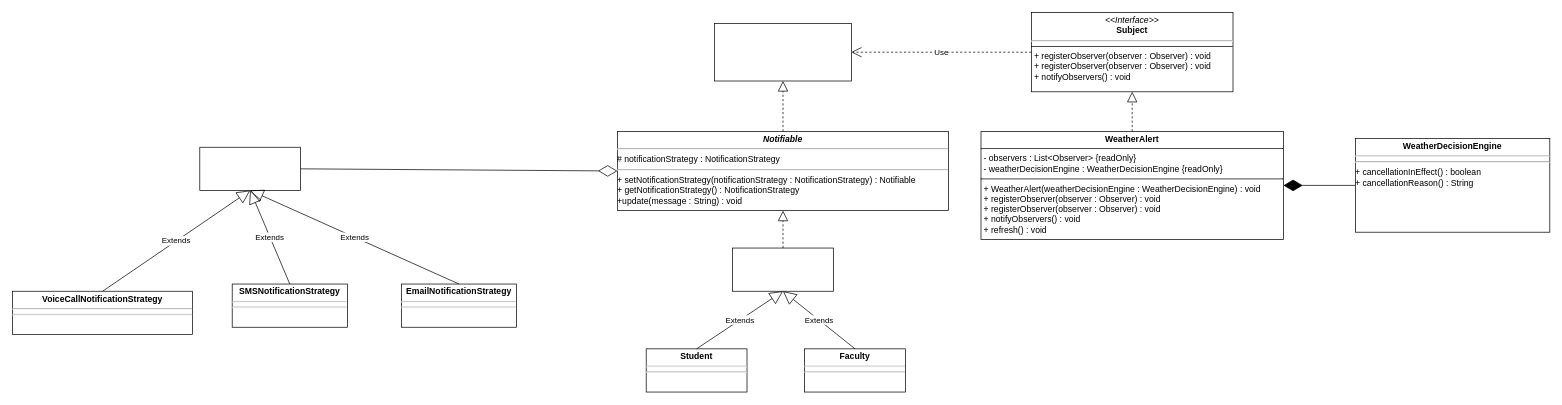
This 1562x405 diagram has some shape labels left out. The shapes that lost their labels are listed below. From the top down, each one's box as (x1, y1, x2, y2) in pixels, then its label:
(714, 23, 851, 81): <<Interface>> Observer +update(message : String) : void
(199, 147, 301, 190): NotficationStrategy
(732, 247, 833, 291): UniversityPersonnel
